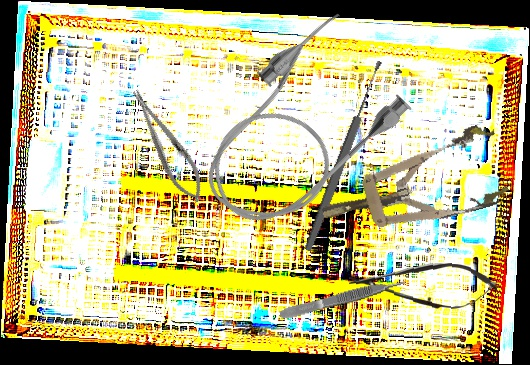Cannula: (173, 2, 424, 252)
Micro Scissor: (347, 258, 499, 312)
Needle Holder: (122, 82, 213, 209)
Speculum: (311, 120, 514, 252)
Surgical Spoon: (302, 59, 386, 253)
Tissue Forceps: (278, 276, 407, 322)
